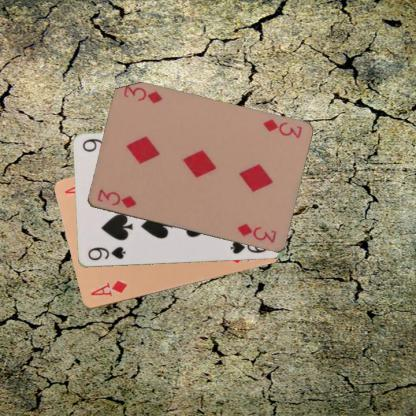3d: (259, 116, 303, 141), (95, 186, 138, 209)
9s: (85, 244, 126, 262)
Ad: (88, 277, 128, 298)
